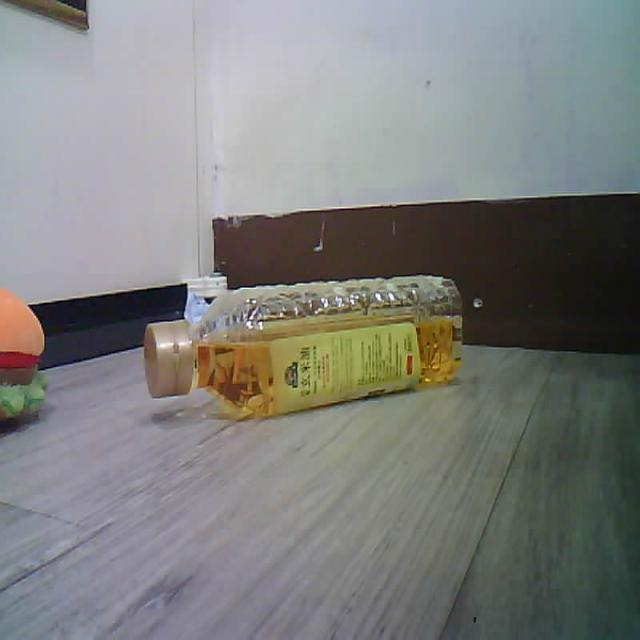bottle: (145, 274, 461, 415)
